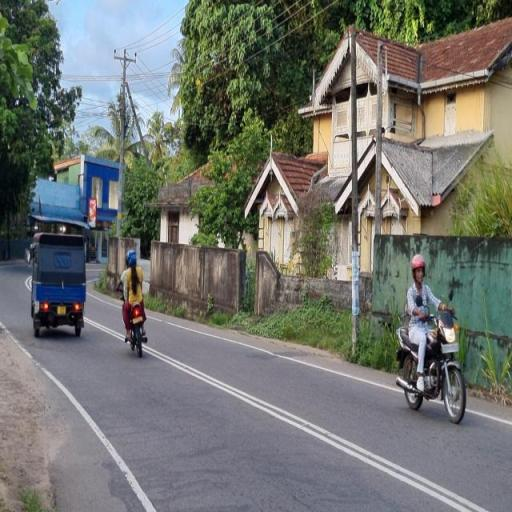double_white_line: (128, 333, 493, 512), (86, 316, 123, 348)
